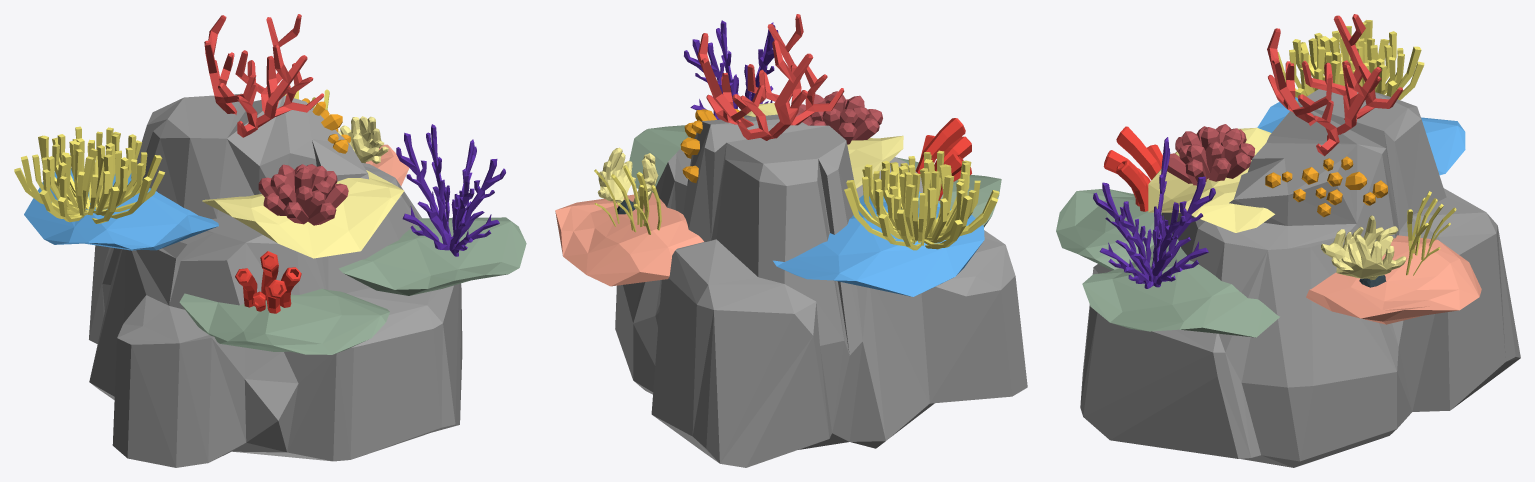
File: Coral_reef_014.glb
3 views of the same model, side by side, from view 1: azimuth 30°, elevation 25°; view 2: azimuth 150°, elevation 25°; view 3: azimuth 270°, elevation 25° (orthographic). The views are drawn at different scales.
Parts seen in each view (by area): view 1: Coral_reef_014; view 2: Coral_reef_014; view 3: Coral_reef_014.
Boxes of the visible parts, x1=… form: Coral_reef_014: x1=14, y1=14, x2=526, y2=467; Coral_reef_014: x1=555, y1=14, x2=1027, y2=467; Coral_reef_014: x1=1056, y1=14, x2=1520, y2=467.
Size of the model in its own units: 3.84 by 3.2 by 3.63.
Materials: 1 (1 with a texture image).
